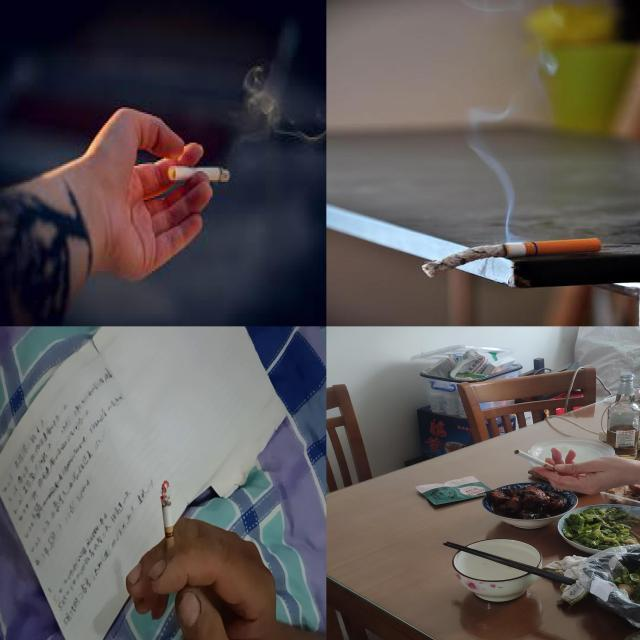smoking: (422, 238, 603, 278), (161, 480, 176, 560), (169, 165, 231, 182), (514, 449, 558, 472)
